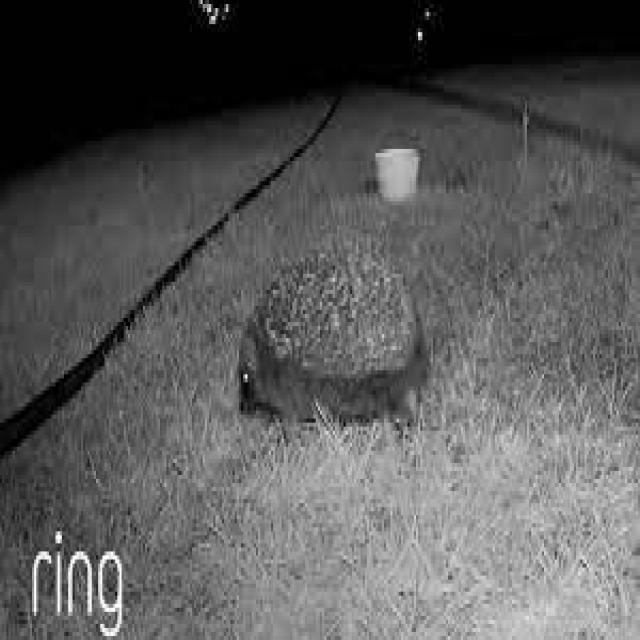Hedgehog: (230, 244, 440, 443)
